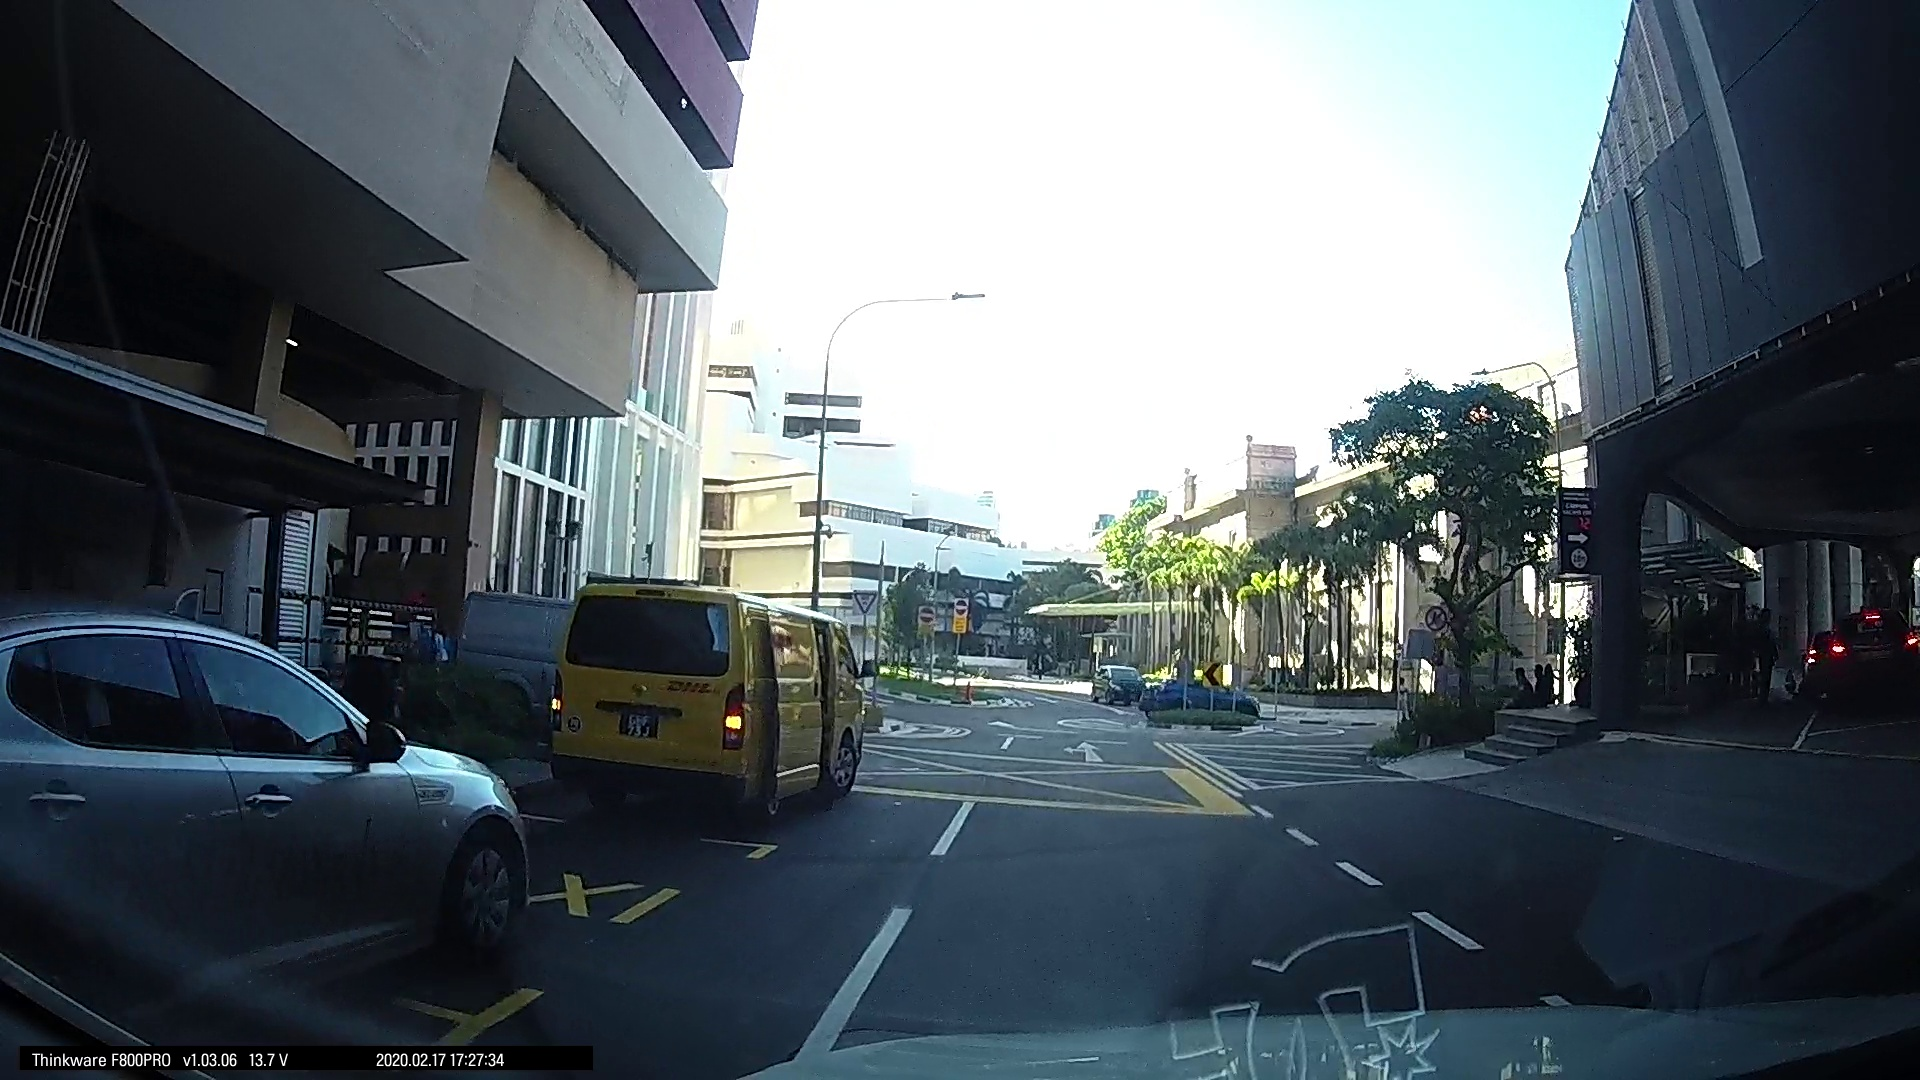Light Vehicle: (5, 608, 533, 1015), (542, 578, 858, 822), (1795, 591, 1916, 715), (1093, 657, 1147, 703)
